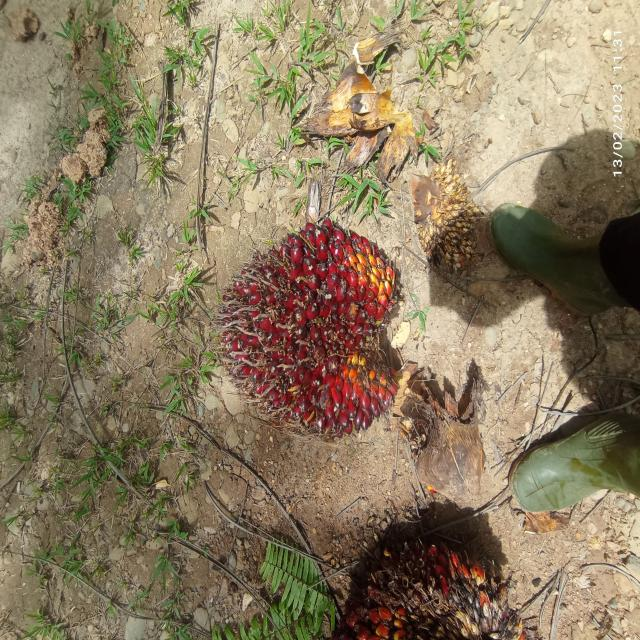fraksi 3: (189, 175, 443, 445)
